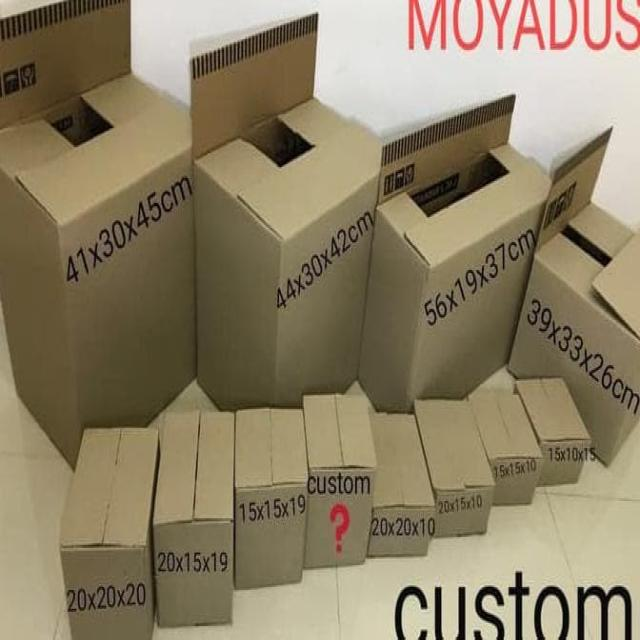Kardus kondisi bagus: (1, 1, 199, 487), (192, 14, 386, 470), (356, 96, 556, 442), (508, 127, 640, 470), (60, 432, 159, 640), (152, 416, 236, 632), (237, 408, 310, 590), (304, 392, 378, 567), (416, 399, 496, 538), (366, 414, 437, 559), (517, 380, 592, 487), (471, 397, 544, 505)
